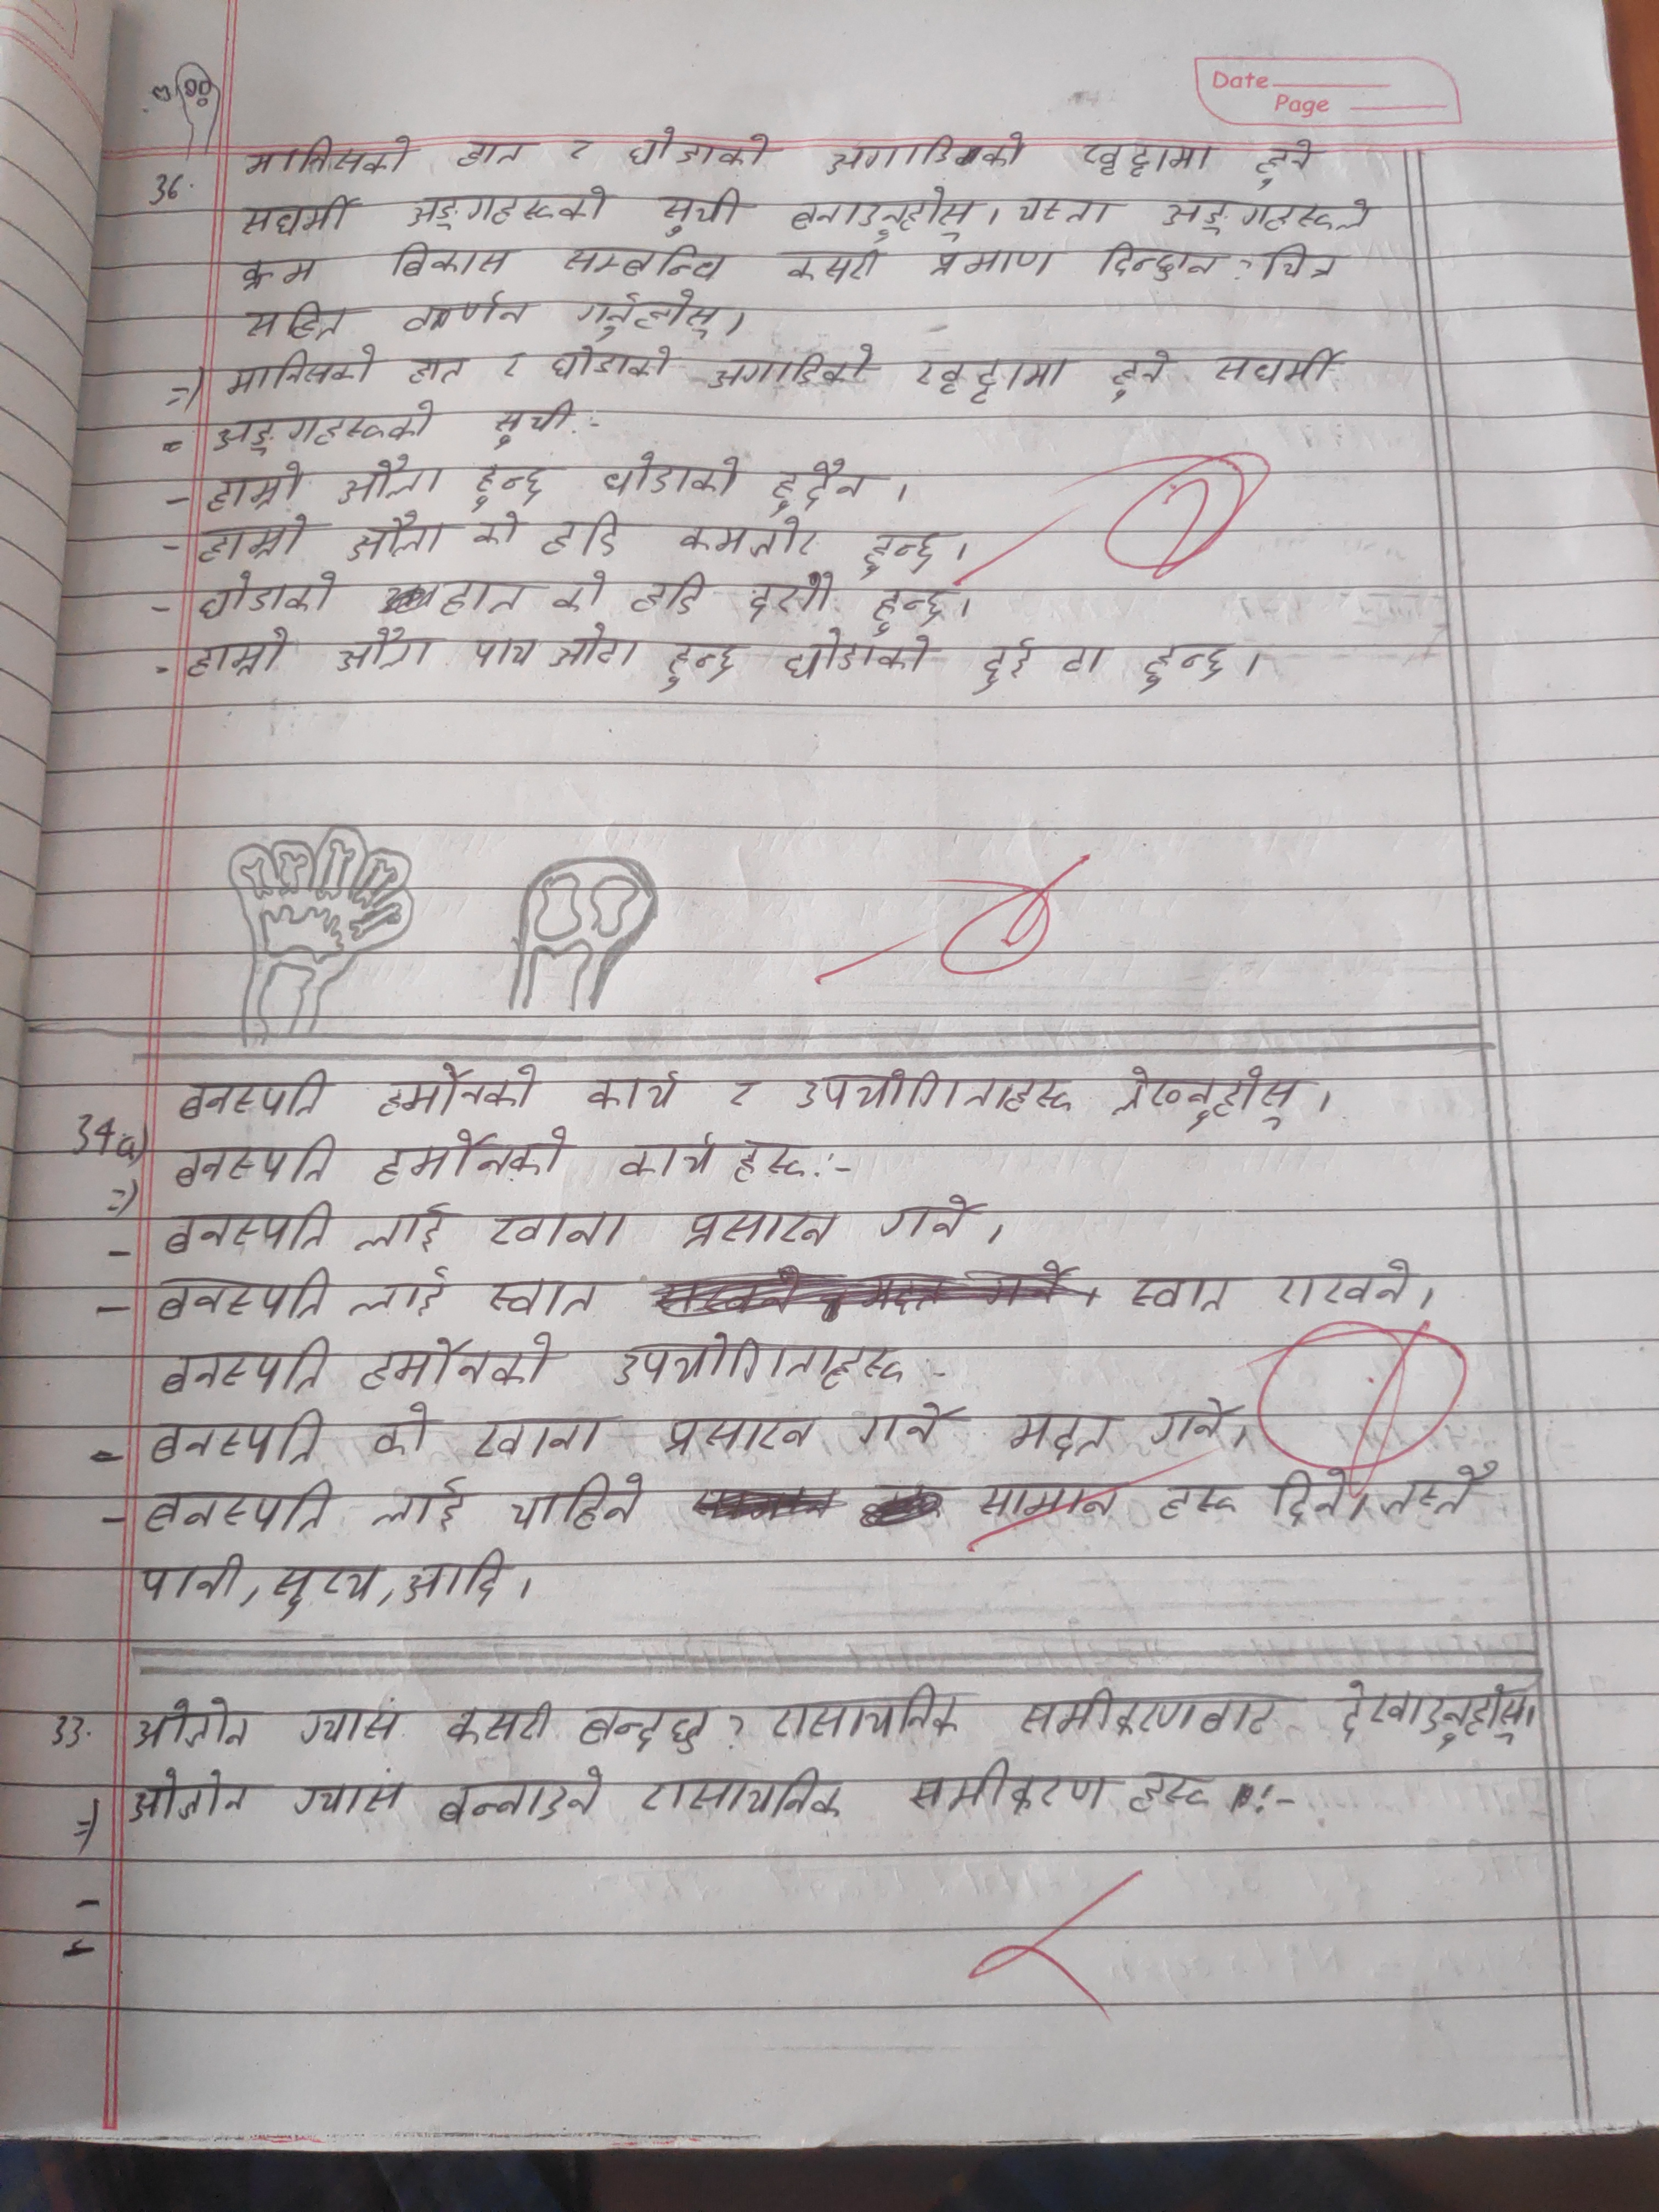text: (608, 1332, 910, 1392), (796, 1061, 1079, 1120), (1328, 1676, 1544, 1752), (1014, 1684, 1291, 1738), (1110, 1057, 1309, 1130), (903, 1756, 1112, 1820), (760, 1681, 969, 1743), (352, 1332, 559, 1395), (634, 1764, 850, 1824), (369, 1125, 579, 1184), (211, 401, 444, 453), (784, 183, 985, 242), (145, 1407, 331, 1470), (159, 1334, 340, 1399), (141, 1479, 335, 1538), (434, 1764, 603, 1829), (153, 1268, 329, 1329), (378, 1059, 538, 1125), (617, 1137, 816, 1190), (173, 1132, 342, 1193), (160, 1198, 336, 1256), (784, 624, 936, 690), (824, 131, 1035, 178), (404, 181, 612, 228), (505, 1468, 650, 1534), (702, 341, 882, 394), (1161, 190, 1373, 233), (124, 1698, 275, 1757), (671, 1200, 836, 1254), (559, 239, 730, 291), (577, 1696, 721, 1757), (242, 134, 420, 181), (601, 444, 741, 503), (179, 1068, 336, 1120), (974, 634, 1107, 695), (577, 286, 721, 341), (188, 568, 342, 620), (434, 1689, 558, 1754), (228, 345, 380, 397), (653, 1409, 816, 1458), (122, 1766, 256, 1824), (915, 355, 1072, 404), (624, 125, 786, 172), (971, 1475, 1126, 1524), (1094, 232, 1227, 287), (268, 1559, 380, 1625), (1382, 1460, 1499, 1522), (1270, 1258, 1415, 1308), (765, 456, 878, 521), (1204, 340, 1344, 392), (401, 1543, 511, 1609), (479, 1209, 627, 1258), (394, 289, 537, 340), (997, 1402, 1117, 1460), (181, 624, 300, 681), (284, 1768, 413, 1820), (674, 516, 823, 561), (293, 1700, 413, 1756), (1079, 132, 1215, 181), (134, 1550, 249, 1608), (369, 1475, 477, 1534), (202, 458, 303, 521), (469, 1414, 606, 1460), (1119, 1266, 1236, 1318), (1267, 1461, 1352, 1533), (927, 244, 1061, 289), (235, 193, 359, 242), (354, 1198, 451, 1259), (335, 451, 446, 503), (648, 185, 749, 242), (345, 1261, 446, 1318), (240, 294, 357, 343), (389, 239, 519, 282), (545, 338, 676, 381), (343, 510, 448, 564), (652, 632, 744, 693), (1134, 639, 1232, 697), (484, 1277, 603, 1324), (1148, 1392, 1234, 1456), (582, 1068, 687, 1120), (859, 1393, 957, 1449), (856, 523, 948, 580), (192, 519, 308, 564), (784, 240, 892, 289), (1124, 1766, 1215, 1824), (333, 625, 439, 674), (549, 620, 645, 674), (1007, 188, 1121, 233), (742, 566, 835, 620), (1260, 235, 1344, 294), (878, 1195, 979, 1244), (1152, 1472, 1243, 1524), (537, 507, 622, 561), (870, 585, 951, 641), (483, 399, 575, 448), (369, 1399, 439, 1461), (624, 568, 713, 617), (1249, 132, 1324, 190), (467, 458, 545, 510), (1105, 347, 1171, 402), (436, 578, 535, 615), (552, 563, 610, 622), (455, 132, 537, 169), (399, 355, 474, 392), (237, 256, 317, 289), (472, 505, 528, 552), (467, 636, 540, 671), (725, 1068, 770, 1111), (497, 348, 530, 381), (566, 134, 596, 169)
